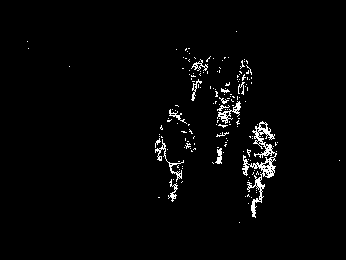person: (241, 116, 280, 222), (157, 105, 195, 205), (210, 81, 241, 166)
